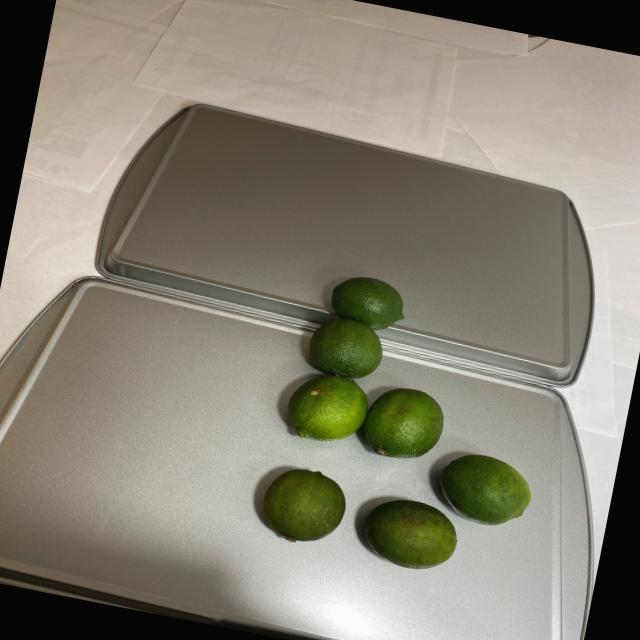lemon: (254, 262, 569, 599)
